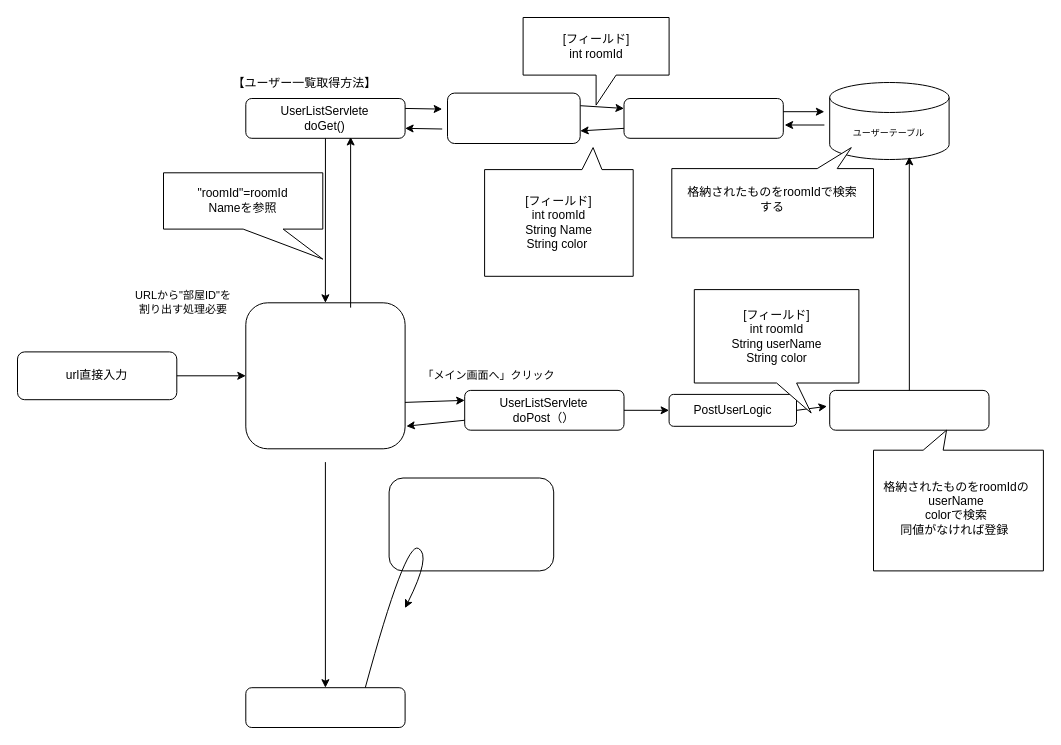
Some shapes in this 1061 by 745 pixel diagram are drawn without their labels. The shapes that lost their labels are listed below. From the top down, each one's centre as x and y in pixels, then its label:
[513,118]: GetUserListLogic
[703,118]: RoomDAO findAll()
[325,375]: usercreate.jsp
[909,409]: RoomDAO create()
[471,524]: セッションスコープ ROOMID USERID NAME COLOR
[325,707]: ReloadServlet
